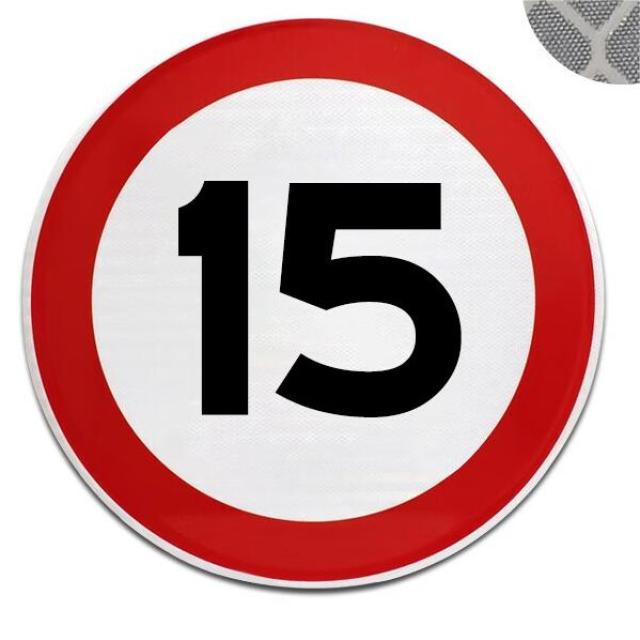speed limit 20: (18, 17, 609, 592)
